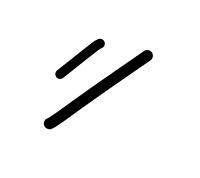t: (44, 48, 156, 135)
